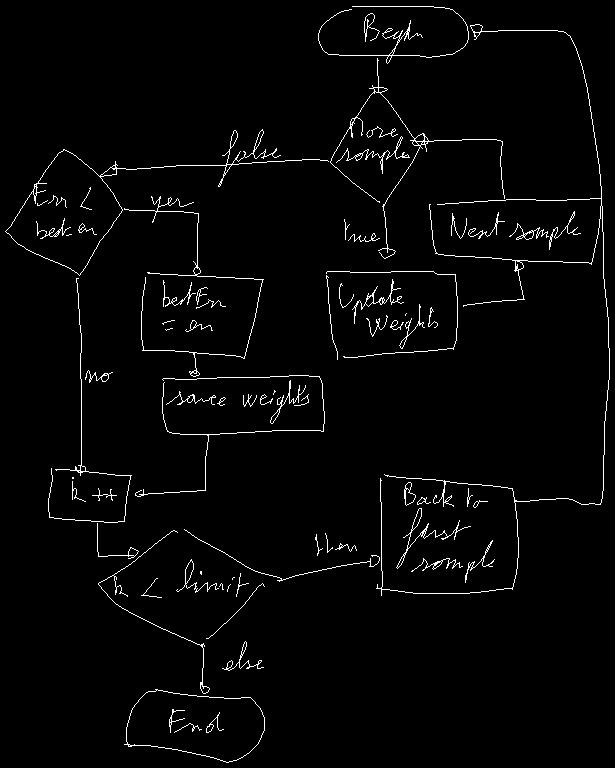arrow: (470, 24, 609, 504), (410, 133, 504, 198), (124, 208, 200, 274), (135, 435, 208, 496), (99, 159, 328, 176), (463, 260, 524, 306), (277, 555, 379, 581), (75, 278, 85, 475), (97, 523, 138, 558), (378, 204, 395, 258), (369, 58, 387, 92), (200, 643, 209, 693), (189, 352, 199, 376)
decision: (98, 529, 282, 646), (5, 149, 122, 275), (330, 91, 423, 205)
process: (376, 474, 518, 595), (326, 271, 457, 359), (429, 198, 601, 264), (141, 272, 263, 358), (162, 375, 324, 434), (48, 468, 131, 522)
terminator: (124, 689, 264, 762), (318, 6, 468, 57)
text: (396, 480, 494, 582), (339, 279, 437, 348), (166, 380, 308, 423), (114, 559, 248, 597), (451, 211, 580, 249), (336, 117, 409, 173), (218, 129, 280, 186), (33, 183, 96, 238), (162, 280, 225, 331), (364, 13, 422, 63), (169, 709, 223, 732), (222, 641, 263, 670), (151, 196, 193, 222), (72, 477, 116, 501), (315, 533, 356, 555), (344, 219, 379, 241), (85, 370, 112, 382)
